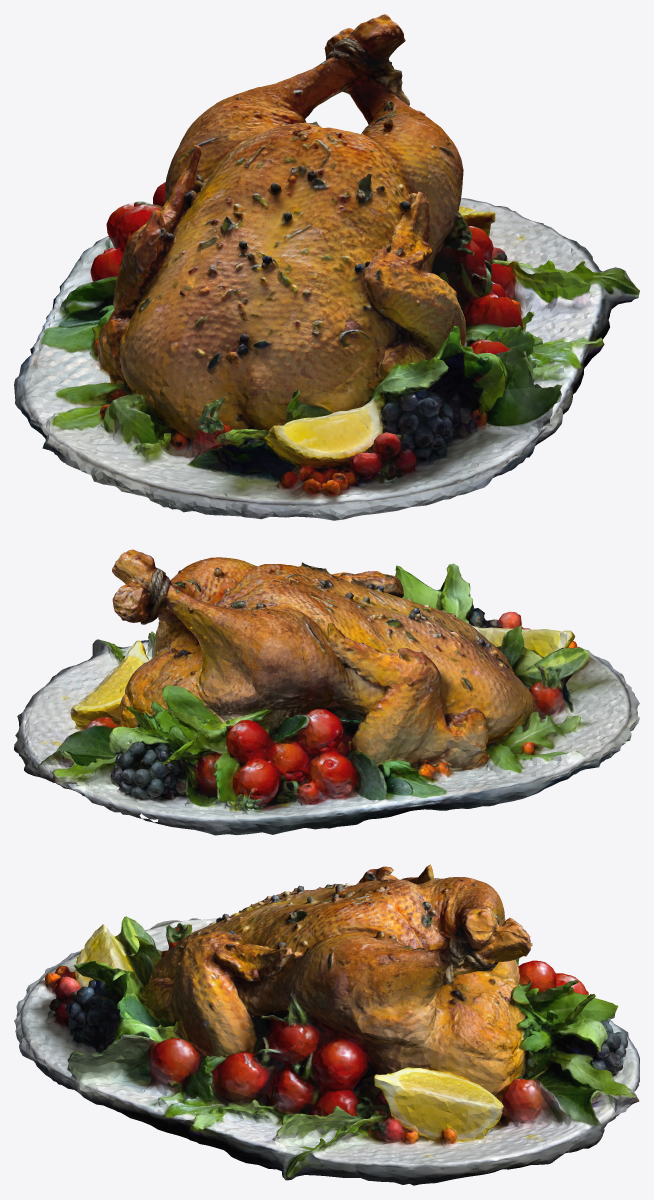
The model's file is Sister.glb.
3 renders of one model, top to bottom at view 1: azimuth 30°, elevation 25°; view 2: azimuth 150°, elevation 25°; view 3: azimuth 270°, elevation 25°, orthographic. The views are drawn at different scales.
Bounding box in the file's own units: 0.357 × 0.1373 × 0.362.
Materials: 1 (1 with a texture image).
